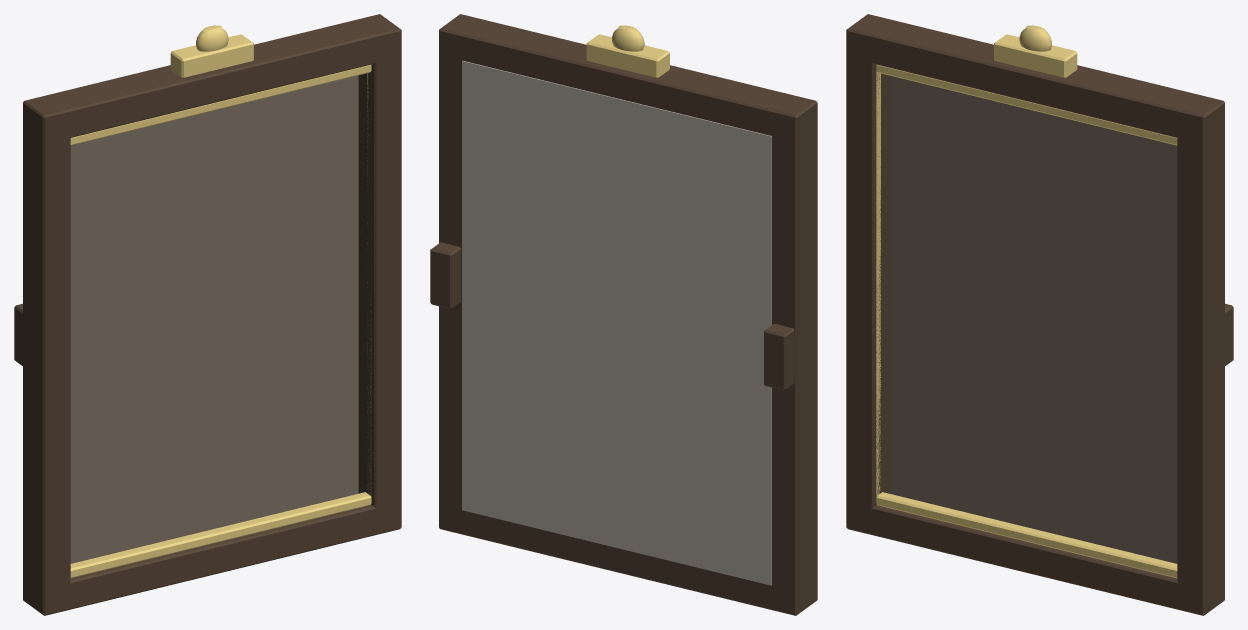
The model's file is Loot_LargePiece_Portrait.fbx.
3 renders of one model, left to right at view 1: azimuth 30°, elevation 25°; view 2: azimuth 150°, elevation 25°; view 3: azimuth 330°, elevation 25°, orthographic.
Visible parts, largest first — view 1: Loot_LargePiece_Portrait; view 2: Loot_LargePiece_Portrait; view 3: Loot_LargePiece_Portrait.
Part boxes in pixels (left/top/right/bottom): Loot_LargePiece_Portrait: left=14, top=14, right=401, bottom=615; Loot_LargePiece_Portrait: left=430, top=14, right=817, bottom=615; Loot_LargePiece_Portrait: left=846, top=14, right=1233, bottom=615.
Bounding box in the file's own units: 114 × 163 × 17.5.
